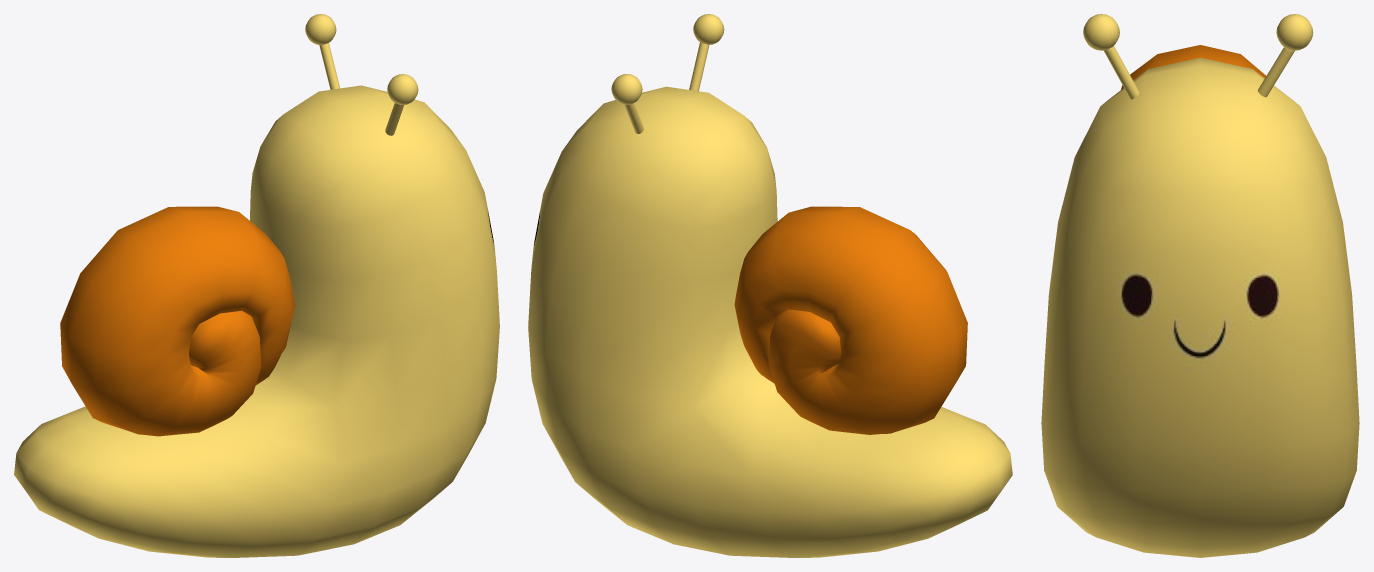
File: EnemyNatureSnail.fbx
3 views of the same model, side by side, from view 1: azimuth 30°, elevation 25°; view 2: azimuth 150°, elevation 25°; view 3: azimuth 270°, elevation 25° (orthographic). The views are drawn at different scales.
Parts seen in each view (by area): view 1: polySurface1, polySurface2, polySurface5, polySurface6; view 2: polySurface1, polySurface2, polySurface6, polySurface5; view 3: polySurface1, polySurface6, polySurface5, polySurface2.
Part boxes in pixels (box(x1,y1,x2,y2)): polySurface1: box(14, 85, 499, 557); polySurface2: box(60, 206, 295, 436); polySurface5: box(305, 14, 339, 89); polySurface6: box(385, 74, 418, 135); polySurface1: box(528, 86, 1012, 557); polySurface2: box(734, 206, 967, 434); polySurface6: box(689, 14, 724, 91); polySurface5: box(611, 74, 643, 133); polySurface1: box(1041, 57, 1359, 557); polySurface6: box(1083, 14, 1139, 99); polySurface5: box(1258, 14, 1313, 97); polySurface2: box(1121, 45, 1265, 89).
Bounding box in the file's own units: 3.76 × 3.76 × 1.95.
